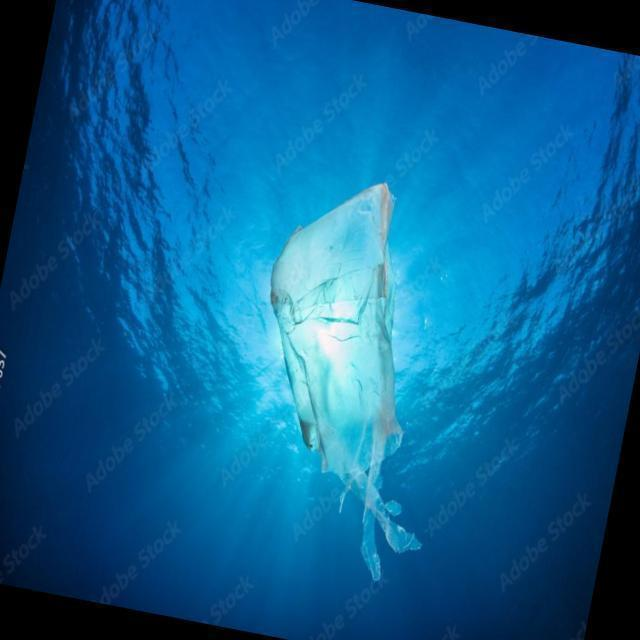Plastic_Bag: (220, 163, 492, 592)
